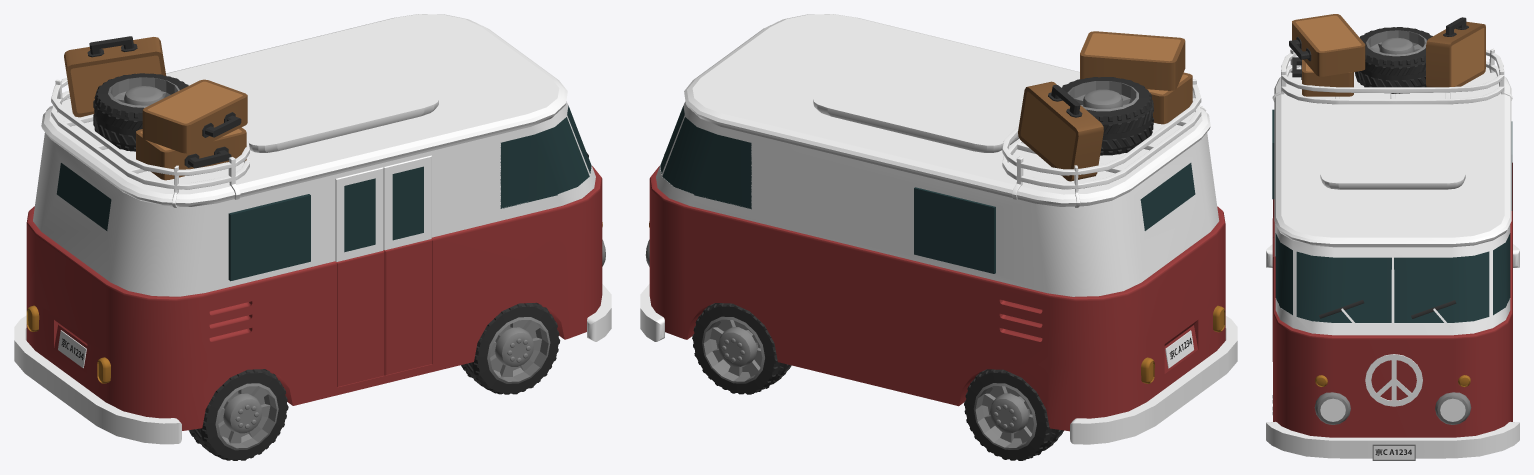
File: bus.glb
3 renders of one model, left to right at view 1: azimuth 30°, elevation 25°; view 2: azimuth 150°, elevation 25°; view 3: azimuth 270°, elevation 25°, orthographic. The views are drawn at different scales.
Visible parts, largest first — view 1: bus_and_forest_0091:bus_and_forest:pCube39, bus_and_forest_0091:bus_and_forest:pCube7, bus_and_forest_0091:bus_and_forest:pCube19, bus_and_forest_0091:bus_and_forest:pCube33, pCube47, bus_and_forest_0091:pCube38, pCube48, bus_and_forest_0091:bus_and_forest:pCube35, pCube45, pCylinder16, bus_and_forest_0091:pCylinder57, bus_and_forest_0091:bus_and_forest:pCylinder4 (+5 smaller); view 2: bus_and_forest_0091:bus_and_forest:pCube39, bus_and_forest_0091:bus_and_forest:pCube19, pCube48, bus_and_forest_0091:bus_and_forest:pCube34, bus_and_forest_0091:pCube38, pCube47, pCylinder16, pCube45, bus_and_forest_0091:pCylinder41, bus_and_forest_0091:pCylinder4, bus_and_forest_0091:pCylinder16, bus_and_forest_0091:pCylinder36 (+3 smaller); view 3: bus_and_forest_0091:bus_and_forest:pCube39, bus_and_forest_0091:bus_and_forest:pCube19, bus_and_forest_0091:pCube37, pCylinder16, pCube47, pCube45, pCube48, pCube46, bus_and_forest_0091:pPipe1, bus_and_forest_0091:pCylinder1, bus_and_forest_0091:pCylinder17, bus_and_forest_0091:pCylinder19 (+5 smaller).
Part boxes in pixels (left/top/right/bottom): bus_and_forest_0091:bus_and_forest:pCube39: left=26, top=14, right=602, bottom=430; bus_and_forest_0091:bus_and_forest:pCube7: left=335, top=155, right=432, bottom=387; bus_and_forest_0091:bus_and_forest:pCube19: left=500, top=105, right=591, bottom=208; bus_and_forest_0091:bus_and_forest:pCube33: left=228, top=194, right=310, bottom=281; pCube47: left=142, top=79, right=247, bottom=153; bus_and_forest_0091:pCube38: left=14, top=315, right=181, bottom=444; pCube48: left=64, top=36, right=166, bottom=117; bus_and_forest_0091:bus_and_forest:pCube35: left=344, top=166, right=423, bottom=252; pCube45: left=46, top=78, right=249, bottom=207; pCylinder16: left=93, top=73, right=188, bottom=151; bus_and_forest_0091:pCylinder57: left=215, top=383, right=278, bottom=450; bus_and_forest_0091:bus_and_forest:pCylinder4: left=487, top=317, right=550, bottom=383; bus_and_forest_0091:bus_and_forest:pCube39: left=649, top=14, right=1225, bottom=431; bus_and_forest_0091:bus_and_forest:pCube19: left=660, top=106, right=751, bottom=209; pCube48: left=1018, top=81, right=1103, bottom=181; bus_and_forest_0091:bus_and_forest:pCube34: left=914, top=187, right=995, bottom=273; bus_and_forest_0091:pCube38: left=1070, top=316, right=1237, bottom=444; pCube47: left=1080, top=31, right=1185, bottom=90; pCylinder16: left=1061, top=77, right=1153, bottom=155; pCube45: left=1002, top=79, right=1206, bottom=207; bus_and_forest_0091:pCylinder41: left=702, top=316, right=764, bottom=383; bus_and_forest_0091:pCylinder4: left=973, top=383, right=1036, bottom=449; bus_and_forest_0091:pCylinder16: left=964, top=369, right=1063, bottom=460; bus_and_forest_0091:pCylinder36: left=692, top=303, right=791, bottom=394; bus_and_forest_0091:bus_and_forest:pCube39: left=1273, top=67, right=1512, bottom=437; bus_and_forest_0091:bus_and_forest:pCube19: left=1275, top=233, right=1510, bottom=322; bus_and_forest_0091:pCube37: left=1266, top=421, right=1519, bottom=458; pCylinder16: left=1354, top=27, right=1432, bottom=93; pCube47: left=1289, top=14, right=1365, bottom=76; pCube45: left=1272, top=49, right=1512, bottom=104; pCube48: left=1426, top=17, right=1485, bottom=87; pCube46: left=1292, top=57, right=1353, bottom=96; bus_and_forest_0091:pPipe1: left=1365, top=354, right=1422, bottom=406; bus_and_forest_0091:pCylinder1: left=1314, top=392, right=1350, bottom=424; bus_and_forest_0091:pCylinder17: left=1435, top=392, right=1471, bottom=424; bus_and_forest_0091:pCylinder19: left=1440, top=398, right=1465, bottom=421.
Bounding box in the file's own units: 0.1334 × 0.0891 × 0.0683.
